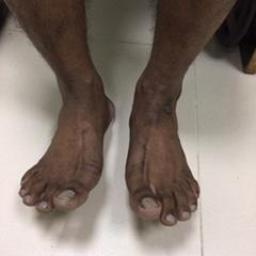Front View -Both Feet-: (13, 49, 212, 236)
